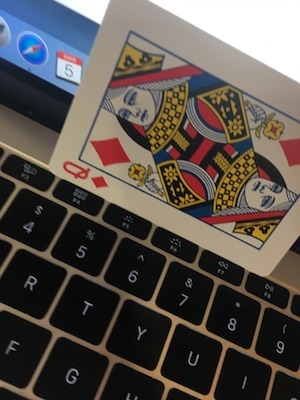QueenOfDiamonds: (31, 1, 300, 282)
